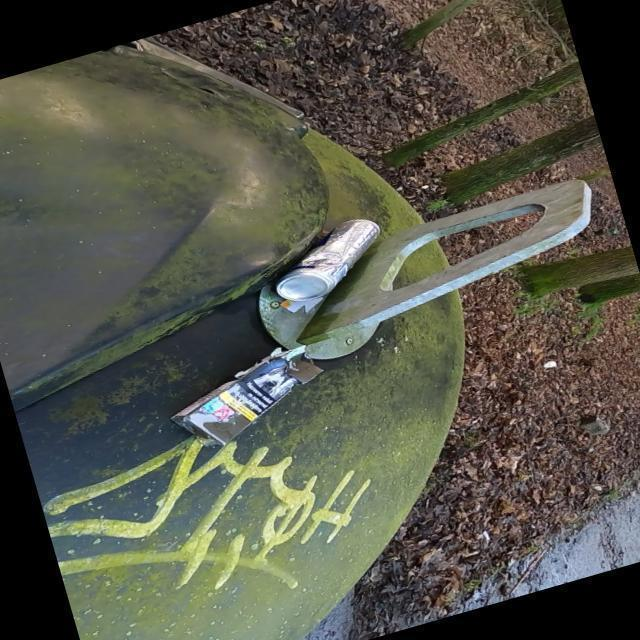Can-Metal: (276, 218, 380, 302)
Paper: (168, 344, 324, 449)
